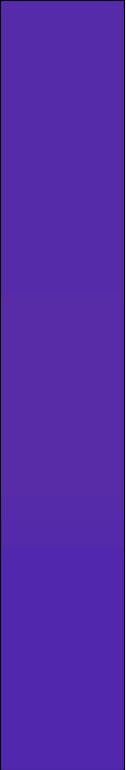safe: (10, 10, 118, 762)
